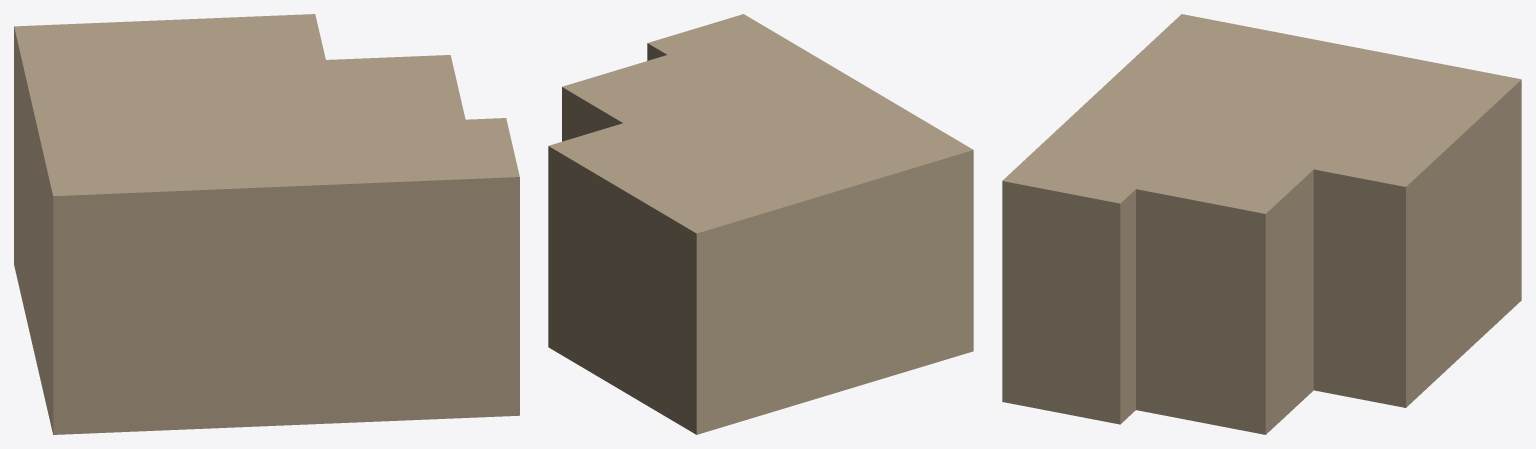
File: bld_101353750.dae
3 views of the same model, side by side, from view 1: azimuth 30°, elevation 25°; view 2: azimuth 150°, elevation 25°; view 3: azimuth 270°, elevation 25° (orthographic). The views are drawn at different scales.
Parts seen in each view (by area): view 1: bld_101353750; view 2: bld_101353750; view 3: bld_101353750.
Part boxes in pixels (x1,y1,x2,y2): bld_101353750: (14,14,519,434); bld_101353750: (548,14,973,434); bld_101353750: (1002,14,1521,434).
Bounding box in the file's own units: 15.53 × 17.05 × 8.
